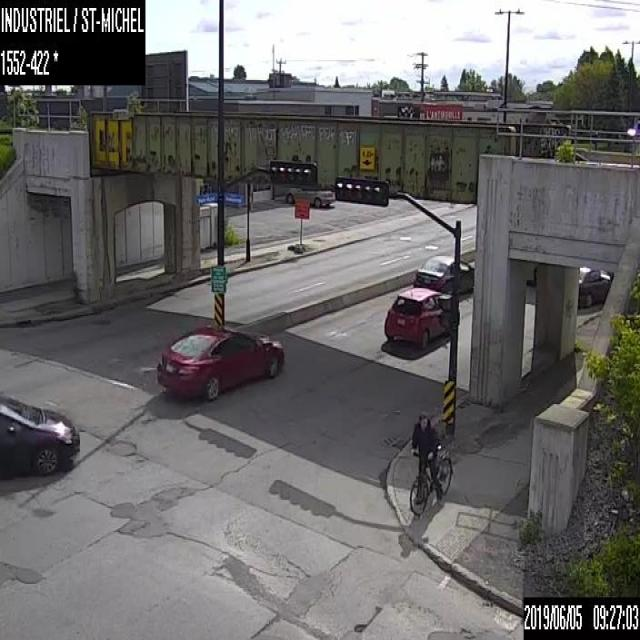cyclist: (408, 415, 452, 516)
vehicle: (155, 323, 283, 400), (0, 393, 79, 476), (382, 286, 453, 349), (412, 254, 474, 292), (577, 267, 611, 309), (284, 183, 335, 207)
